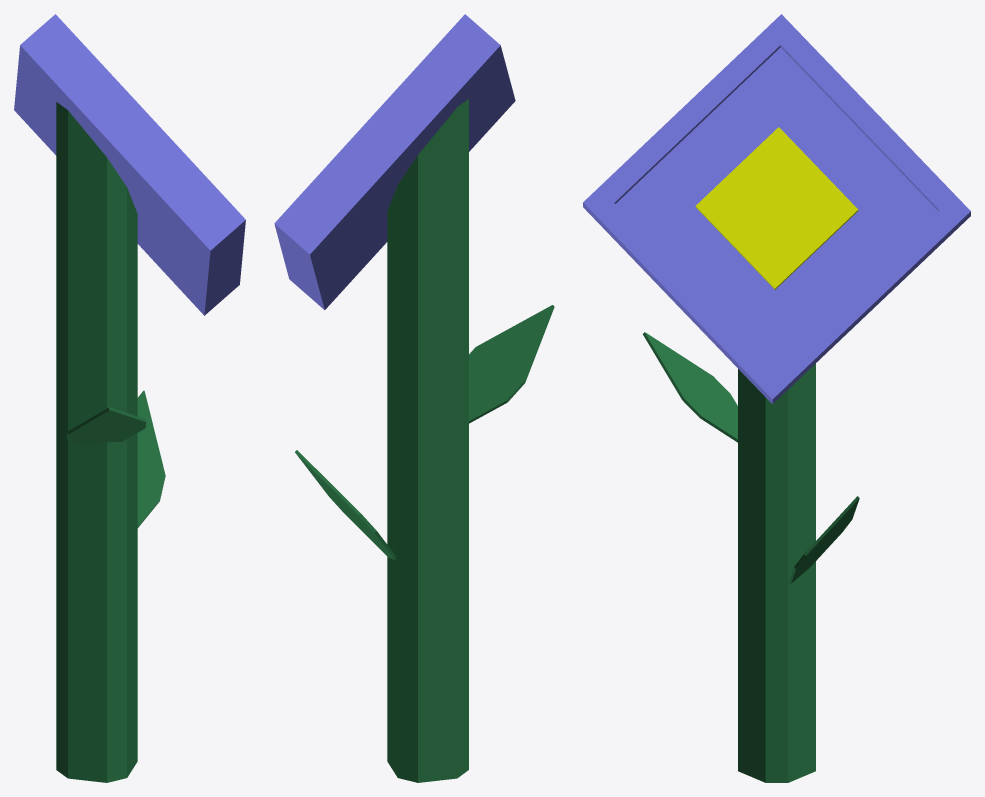
Rendered from flower.fbx.
3 renders of one model, left to right at view 1: azimuth 30°, elevation 25°; view 2: azimuth 150°, elevation 25°; view 3: azimuth 270°, elevation 25°, orthographic. The views are drawn at different scales.
Parts seen in each view (by area): view 1: Cube.004; view 2: Cube.004; view 3: Cube.004.
Part boxes in pixels (x1,y1,x2,y2): Cube.004: (14, 14, 245, 782); Cube.004: (274, 14, 554, 782); Cube.004: (583, 14, 970, 782).
Bounding box in the file's own units: 92.71 × 313 × 150.
